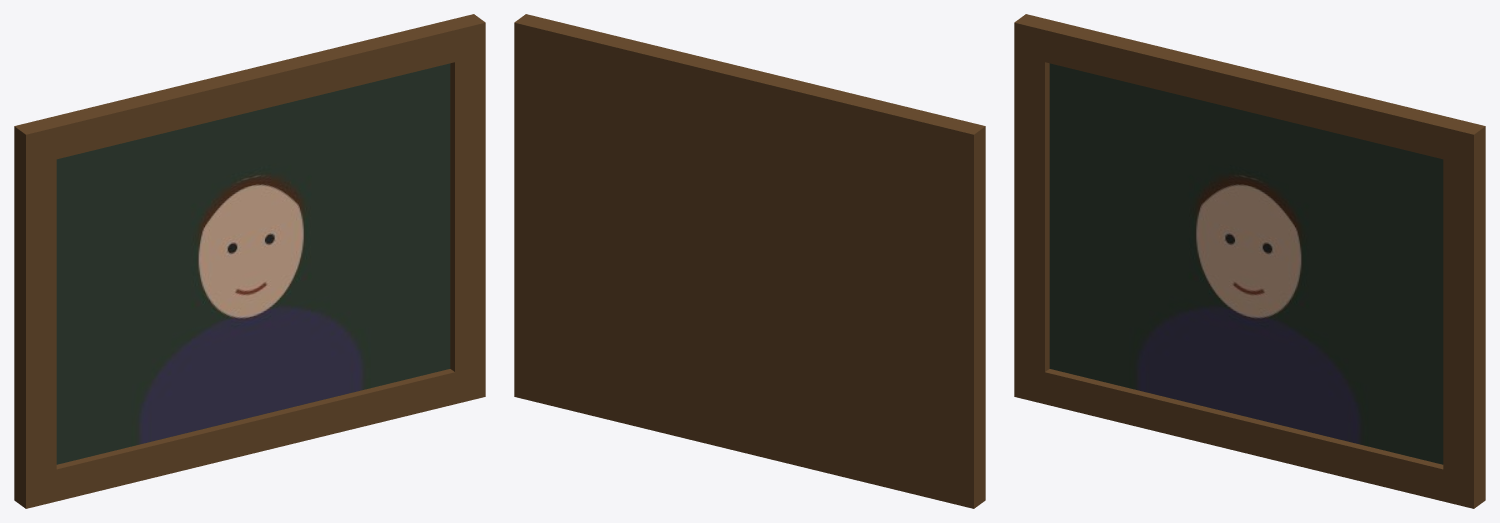
File: painting_portrait.glb
The picture shows the model from 3 angles, left to right: view 1: azimuth 30°, elevation 25°; view 2: azimuth 150°, elevation 25°; view 3: azimuth 330°, elevation 25°; orthographic projection.
Visible parts, largest first — view 1: painting; view 2: painting; view 3: painting.
Part boxes in pixels (box(x1,y1,x2,y2)): painting: box(14, 14, 485, 508); painting: box(514, 14, 985, 508); painting: box(1014, 14, 1485, 508).
Bounding box in the file's own units: 0.9 × 0.7 × 0.04.
Materials: 2 (1 with a texture image).
